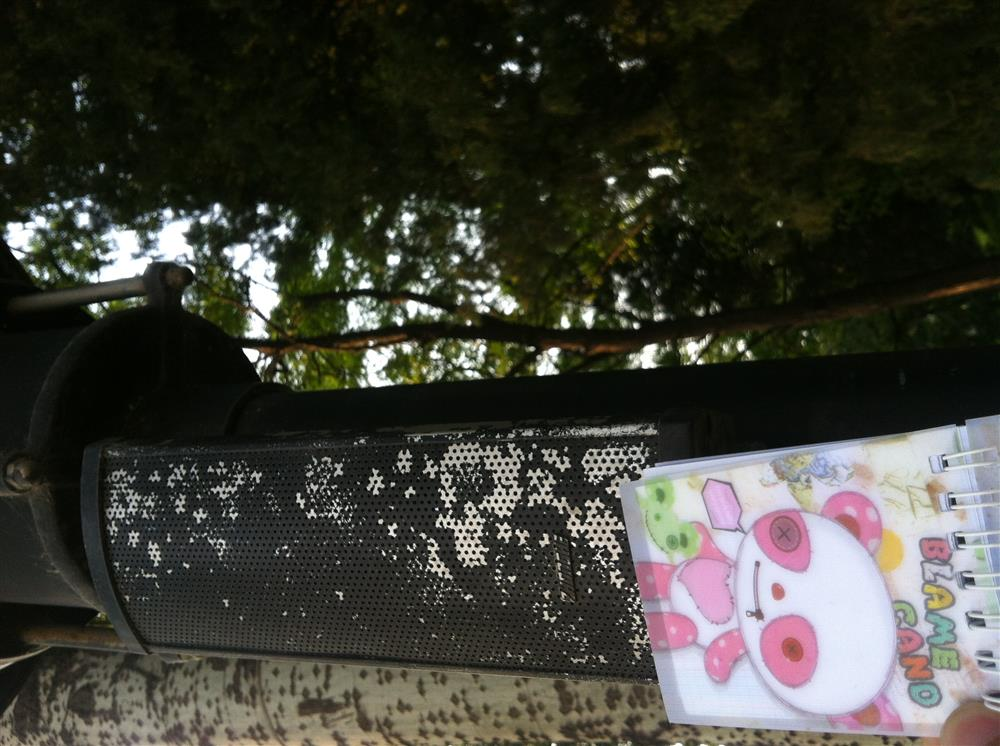pear_book: (618, 414, 994, 737)
